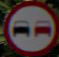No overtake: (4, 3, 55, 45)
